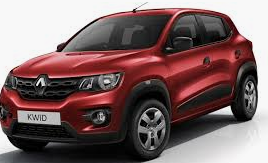car: (1, 6, 259, 161)
